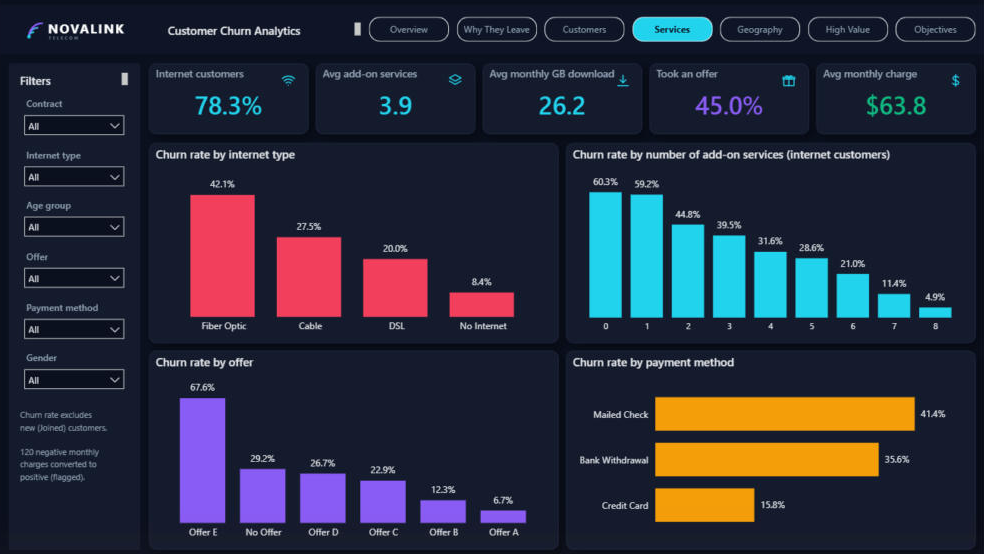

Layout of this report page (visuals, bound fields, positions):
{"tool":"powerbi","page":{"name":"Services","canvas":[1280,720],"ordinal":3},"visuals":[{"type":"textbox","box":[0,0,1280,64],"z":8200},{"type":"image","box":[14,8,196,48],"z":8300},{"type":"textbox","box":[214,18,260,32],"z":8400},{"type":"pageNavigator","box":[480,16,788,32],"z":8500},{"type":"textbox","box":[12,76,170,632],"z":8600},{"type":"textbox","box":[22,84,150,26],"z":8700},{"type":"slicer","fields":{"Values":["Customers.Contract"]},"box":[22,116,150,58],"z":8800},{"type":"slicer","fields":{"Values":["Customers.Internet Type"]},"box":[22,182,150,58],"z":8900},{"type":"slicer","fields":{"Values":["Customers.Age Group"]},"box":[22,248,150,58],"z":9000},{"type":"slicer","fields":{"Values":["Customers.Offer"]},"box":[22,314,150,58],"z":9100},{"type":"slicer","fields":{"Values":["Customers.Payment Method"]},"box":[22,380,150,58],"z":9200},{"type":"slicer","fields":{"Values":["Customers.Gender"]},"box":[22,446,150,58],"z":9300},{"type":"textbox","box":[22,520,150,180],"z":9400},{"type":"card","title":"Internet customers","fields":{"Values":["Metrics.Internet Customers %"]},"box":[194,76,207,92],"z":9500},{"type":"image","box":[361,84,30,30],"z":9600},{"type":"card","title":"Avg add-on services","fields":{"Values":["Metrics.Avg Add-on Services"]},"box":[411,76,207,92],"z":9700},{"type":"image","box":[578,84,30,30],"z":9800},{"type":"card","title":"Avg monthly GB download","fields":{"Values":["Metrics.Avg GB Download"]},"box":[628,76,207,92],"z":9900},{"type":"image","box":[795,84,30,30],"z":10000},{"type":"card","title":"Took an offer","fields":{"Values":["Metrics.Offer Uptake %"]},"box":[844,76,207,92],"z":10100},{"type":"image","box":[1011,84,30,30],"z":10200},{"type":"card","title":"Avg monthly charge","fields":{"Values":["Metrics.Avg Monthly Charge"]},"box":[1061,76,207,92],"z":10300},{"type":"image","box":[1228,84,30,30],"z":10400},{"type":"clusteredColumnChart","title":"Churn rate by internet type","fields":{"Category":["Customers.Internet Type"],"Y":["Metrics.Churn Rate"]},"box":[194,180,532,260],"z":10500},{"type":"clusteredColumnChart","title":"Churn rate by number of add-on services (internet customers)","fields":{"Category":["Customers.Add-on Services"],"Y":["Metrics.Churn Rate"]},"box":[736,180,532,260],"z":10600},{"type":"clusteredColumnChart","title":"Churn rate by offer","fields":{"Category":["Customers.Offer"],"Y":["Metrics.Churn Rate"]},"box":[194,450,532,258],"z":10700},{"type":"clusteredBarChart","title":"Churn rate by payment method","fields":{"Category":["Customers.Payment Method"],"Y":["Metrics.Churn Rate"]},"box":[736,450,532,258],"z":10800}]}

Visuals, with their boxes in screenshot pixels (x1, y1, x2, y2), scaled from the page's 1280x720 canvas onto the 984x554 screenshot:
textbox: [x1=0, y1=0, x2=983, y2=49]
image: [x1=11, y1=6, x2=161, y2=43]
textbox: [x1=165, y1=14, x2=364, y2=38]
pageNavigator: [x1=369, y1=12, x2=975, y2=37]
textbox: [x1=9, y1=58, x2=140, y2=545]
textbox: [x1=17, y1=65, x2=132, y2=85]
slicer - Customers.Contract: [x1=17, y1=89, x2=132, y2=134]
slicer - Customers.Internet Type: [x1=17, y1=140, x2=132, y2=185]
slicer - Customers.Age Group: [x1=17, y1=191, x2=132, y2=235]
slicer - Customers.Offer: [x1=17, y1=242, x2=132, y2=286]
slicer - Customers.Payment Method: [x1=17, y1=292, x2=132, y2=337]
slicer - Customers.Gender: [x1=17, y1=343, x2=132, y2=388]
textbox: [x1=17, y1=400, x2=132, y2=539]
"Internet customers" card: [x1=149, y1=58, x2=308, y2=129]
image: [x1=278, y1=65, x2=301, y2=88]
"Avg add-on services" card: [x1=316, y1=58, x2=475, y2=129]
image: [x1=444, y1=65, x2=467, y2=88]
"Avg monthly GB download" card: [x1=483, y1=58, x2=642, y2=129]
image: [x1=611, y1=65, x2=634, y2=88]
"Took an offer" card: [x1=649, y1=58, x2=808, y2=129]
image: [x1=777, y1=65, x2=800, y2=88]
"Avg monthly charge" card: [x1=816, y1=58, x2=975, y2=129]
image: [x1=944, y1=65, x2=967, y2=88]
"Churn rate by internet type" clusteredColumnChart: [x1=149, y1=138, x2=558, y2=339]
"Churn rate by number of add-on services (internet customers)" clusteredColumnChart: [x1=566, y1=138, x2=975, y2=339]
"Churn rate by offer" clusteredColumnChart: [x1=149, y1=346, x2=558, y2=545]
"Churn rate by payment method" clusteredBarChart: [x1=566, y1=346, x2=975, y2=545]
